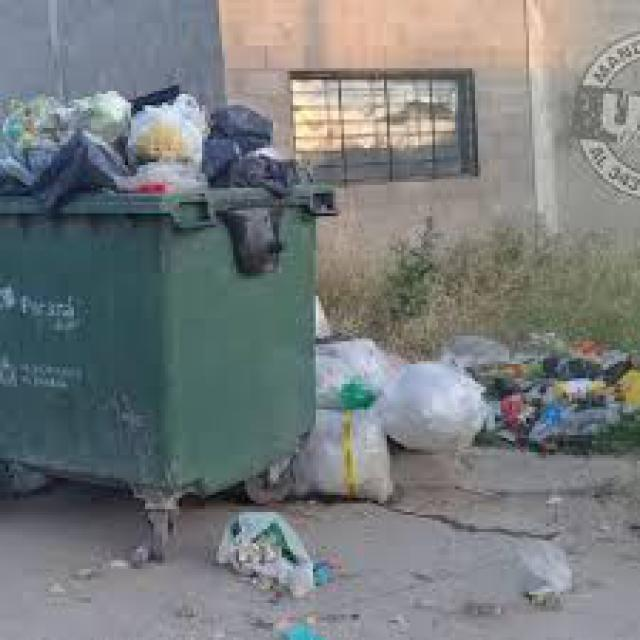Trashbag: (224, 204, 284, 274), (45, 142, 115, 192), (223, 158, 315, 196), (211, 110, 276, 146)
